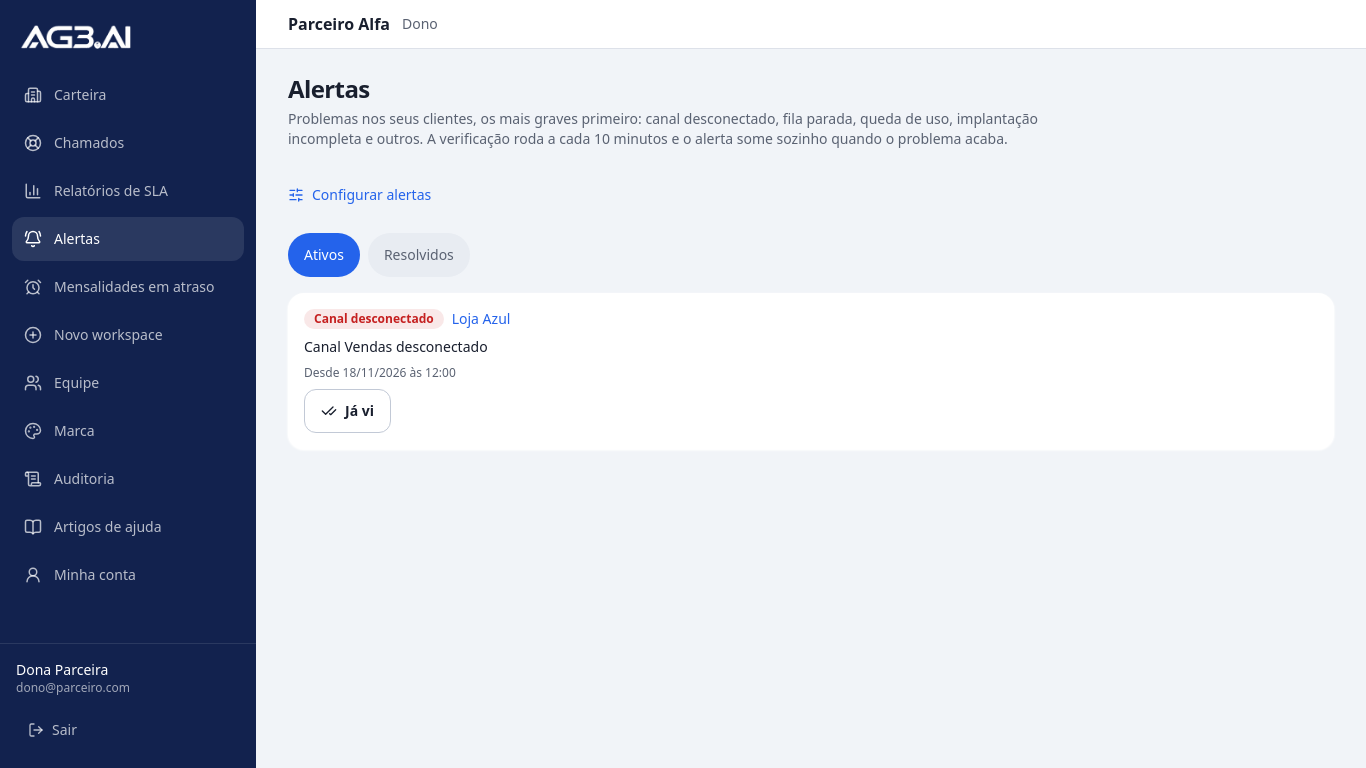
Test case: alertas › lista os ativos com o cliente e marca como visto
Expected: the text "Canal Vendas desconectado" is shown, [304,337,488,356]
Step 1. Click the button "Já vi" → [348, 411], box [304,389,391,433]
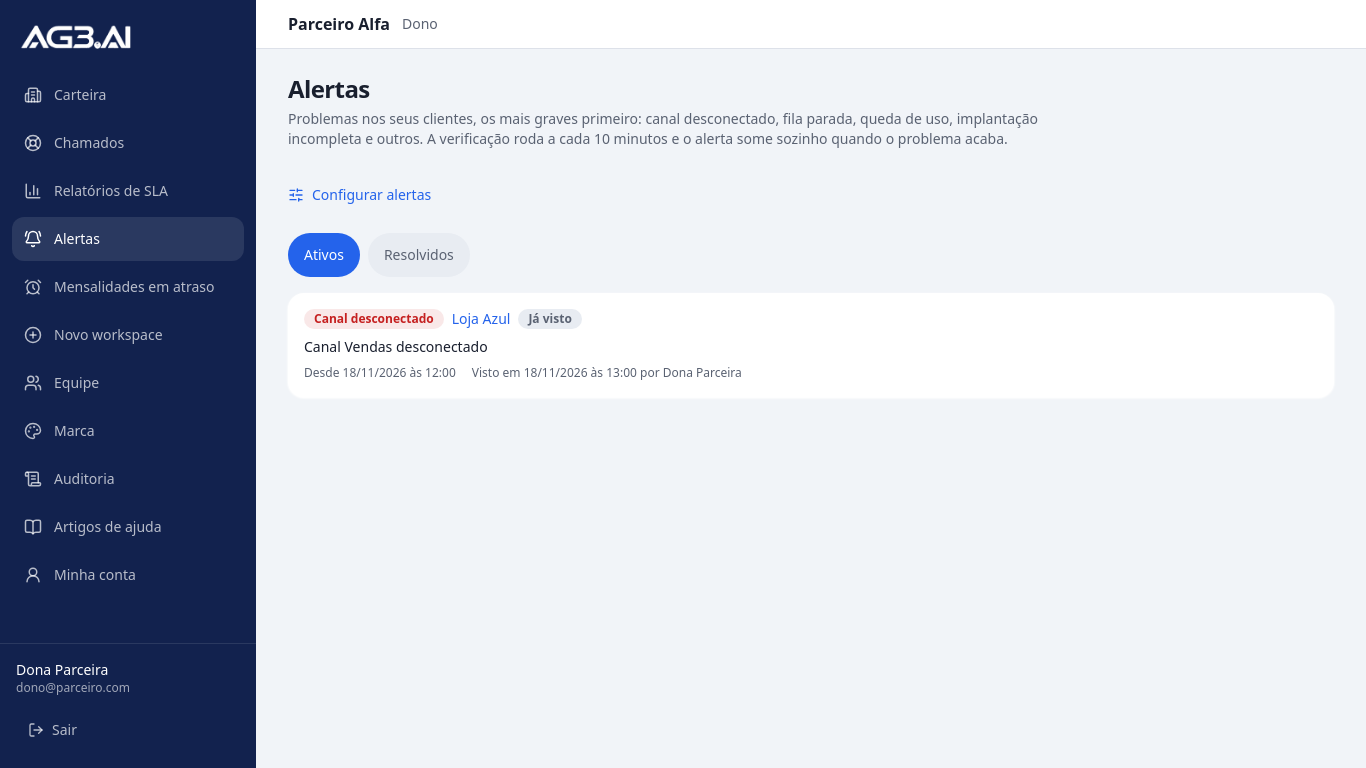
Now the text "Já visto" is shown, box [518,309,582,329]
Now the text "Visto em 18/11/2026 às 13:00 por Dona Parceira" is shown, box [472,365,742,381]
